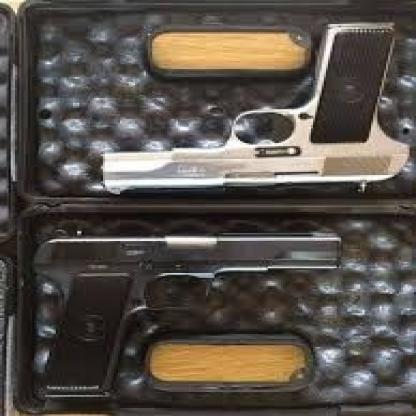Pistol: (15, 223, 339, 402), (90, 18, 410, 194)
